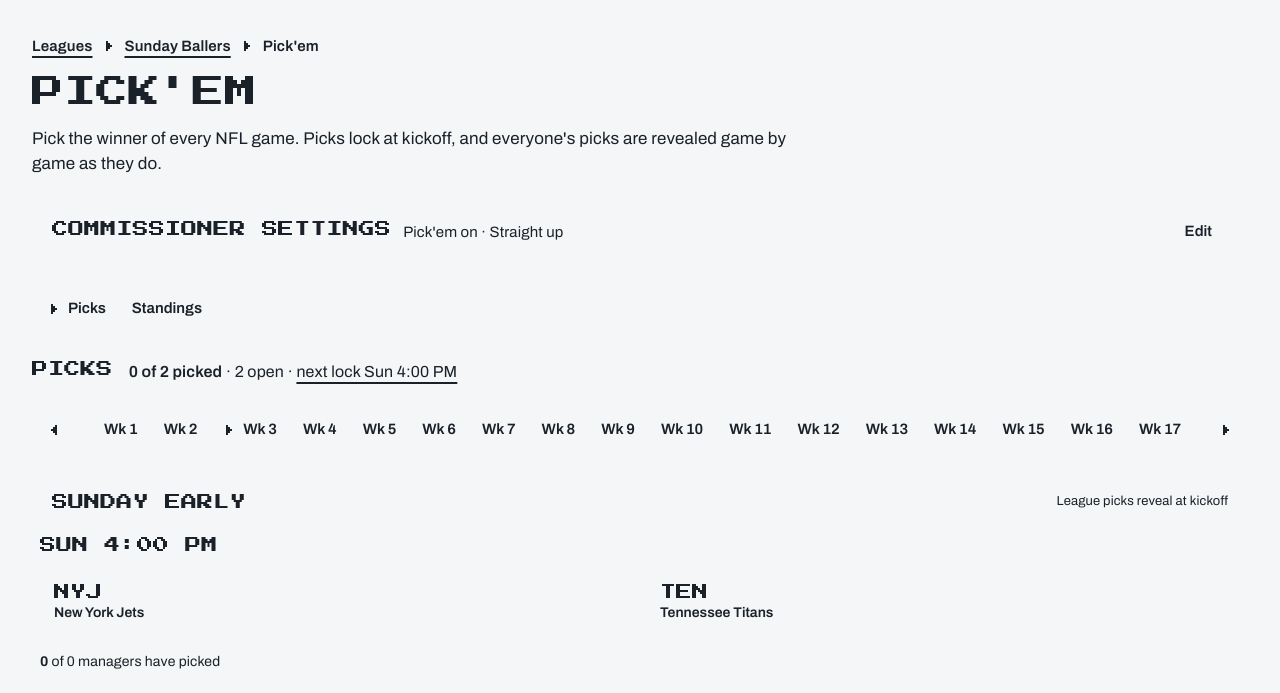
Test: AC 6g: a commissioner sees the collapsed settings row above the sections control, with Edit collapsed and no radios until it is pressed
The width and height of the screenshot is (1280, 693).
expect the heading "Commissioner settings" is shown: met, box top-left (52, 217), bottom-right (391, 241)
Step 1. Click the button "Edit" → [1198, 231], box top-left (1168, 209), bottom-right (1228, 253)
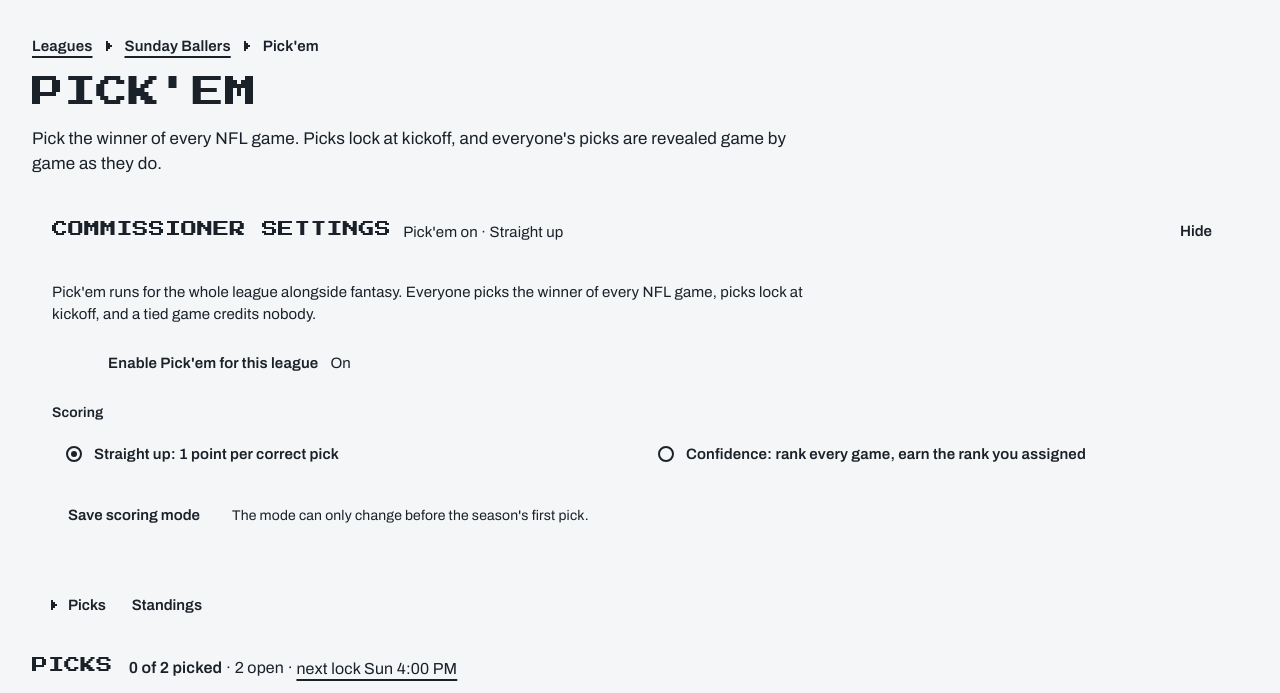
expect the radio button labelled "Straight up: 1 point per correct pick" is enabled: met, box top-left (66, 446), bottom-right (339, 462)
